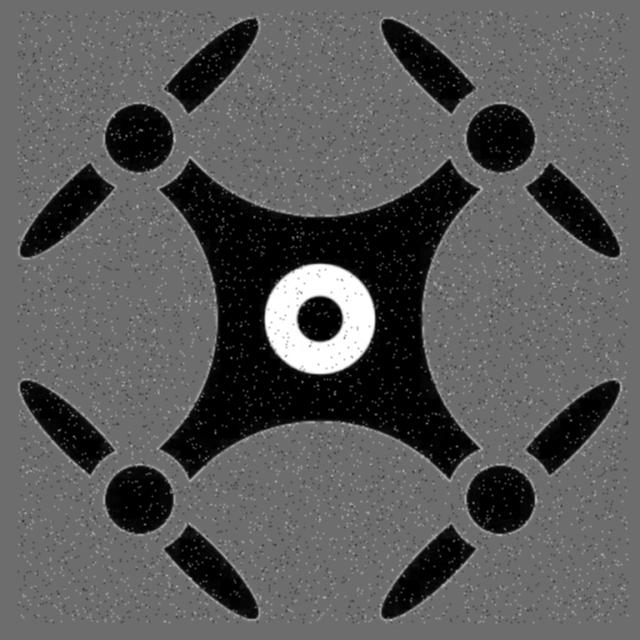drone: (19, 13, 629, 625)
